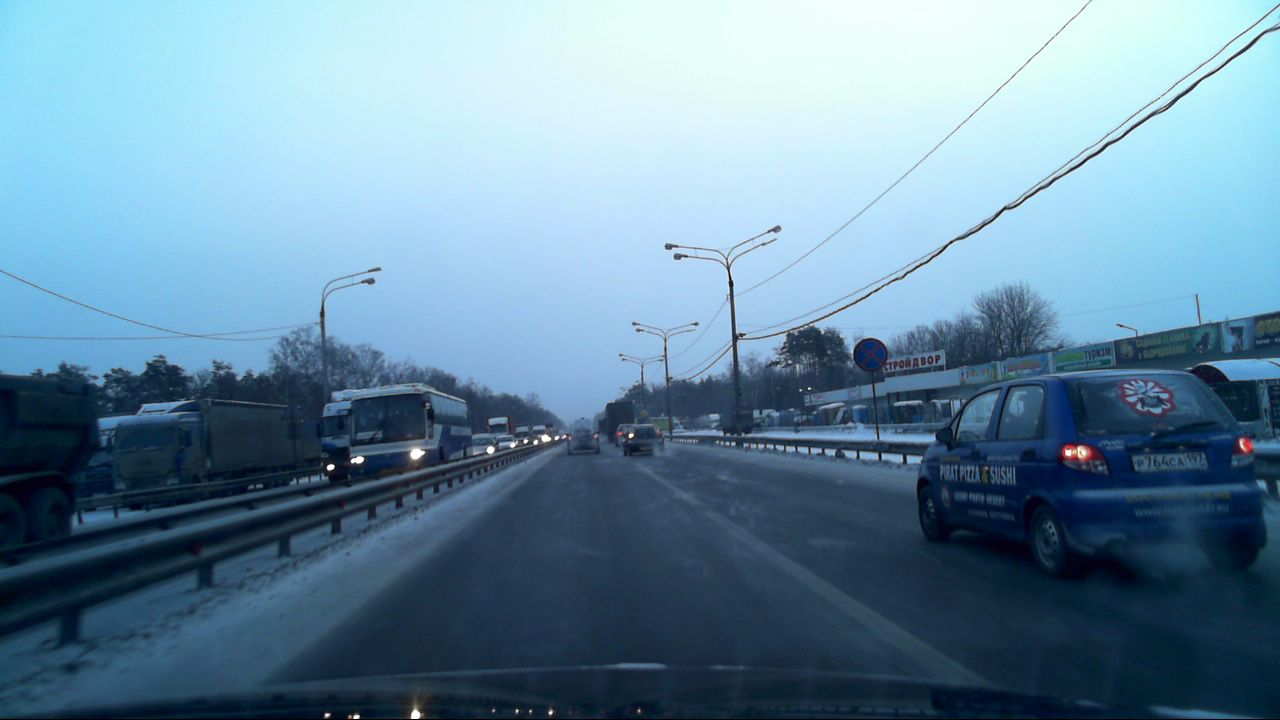No Parking: (852, 337, 889, 373)
